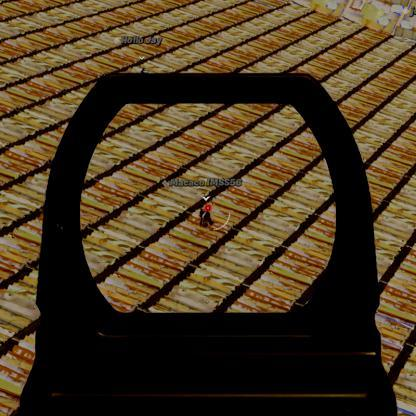person: (198, 206, 215, 229)
